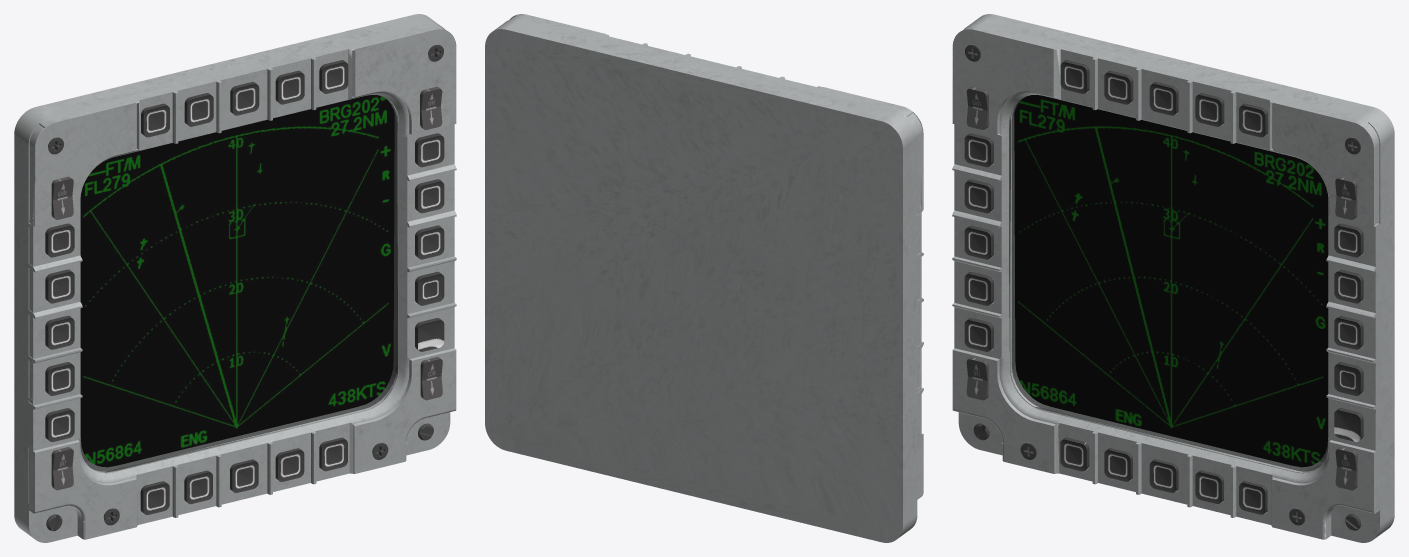
File: RMU.glb
The picture shows the model from 3 angles, left to right: view 1: azimuth 30°, elevation 25°; view 2: azimuth 150°, elevation 25°; view 3: azimuth 330°, elevation 25°; orthographic projection.
Parts seen in each view (by area): view 1: screen, screen_image, RMU.002, RMU_back.001, Cube.002, Cube.005, Cube.003, Cube.004, Plane.019, Plane.009, Plane.011, Plane.018 (+16 smaller); view 2: RMU_back.001, RMU.002; view 3: screen, screen_image, RMU.002, RMU_back.001, Cube.004, Cube.002, Cube.005, Cube.003, Plane.011, Plane.008, Plane.012, Plane.018 (+16 smaller).
Part boxes in pixels (x1=…): screen: x1=80, y1=95, x2=397, y2=472; screen_image: x1=80, y1=95, x2=394, y2=467; RMU.002: x1=26, y1=23, x2=456, y2=542; RMU_back.001: x1=14, y1=14, x2=445, y2=536; Cube.002: x1=51, y1=447, x2=73, y2=490; Cube.005: x1=420, y1=357, x2=442, y2=400; Cube.003: x1=51, y1=176, x2=73, y2=219; Cube.004: x1=420, y1=86, x2=442, y2=129; Plane.019: x1=45, y1=269, x2=74, y2=303; Plane.009: x1=415, y1=272, x2=444, y2=305; Plane.011: x1=415, y1=179, x2=444, y2=213; Plane.018: x1=45, y1=223, x2=74, y2=257; RMU_back.001: x1=485, y1=18, x2=917, y2=542; RMU.002: x1=510, y1=14, x2=923, y2=529; screen: x1=1009, y1=95, x2=1328, y2=471; screen_image: x1=1014, y1=95, x2=1328, y2=467; RMU.002: x1=952, y1=23, x2=1382, y2=542; RMU_back.001: x1=963, y1=14, x2=1394, y2=536; Cube.004: x1=1335, y1=176, x2=1357, y2=219; Cube.002: x1=966, y1=357, x2=988, y2=400; Cube.005: x1=1335, y1=447, x2=1357, y2=490; Cube.003: x1=966, y1=86, x2=988, y2=129; Plane.011: x1=1334, y1=269, x2=1363, y2=303; Plane.008: x1=1334, y1=408, x2=1363, y2=441; Plane.012: x1=1334, y1=223, x2=1363, y2=257; Plane.018: x1=964, y1=133, x2=993, y2=167.
Size of the model in its own units: 4.89 by 4.71 by 0.4775.
11 materials, 8 textured.
